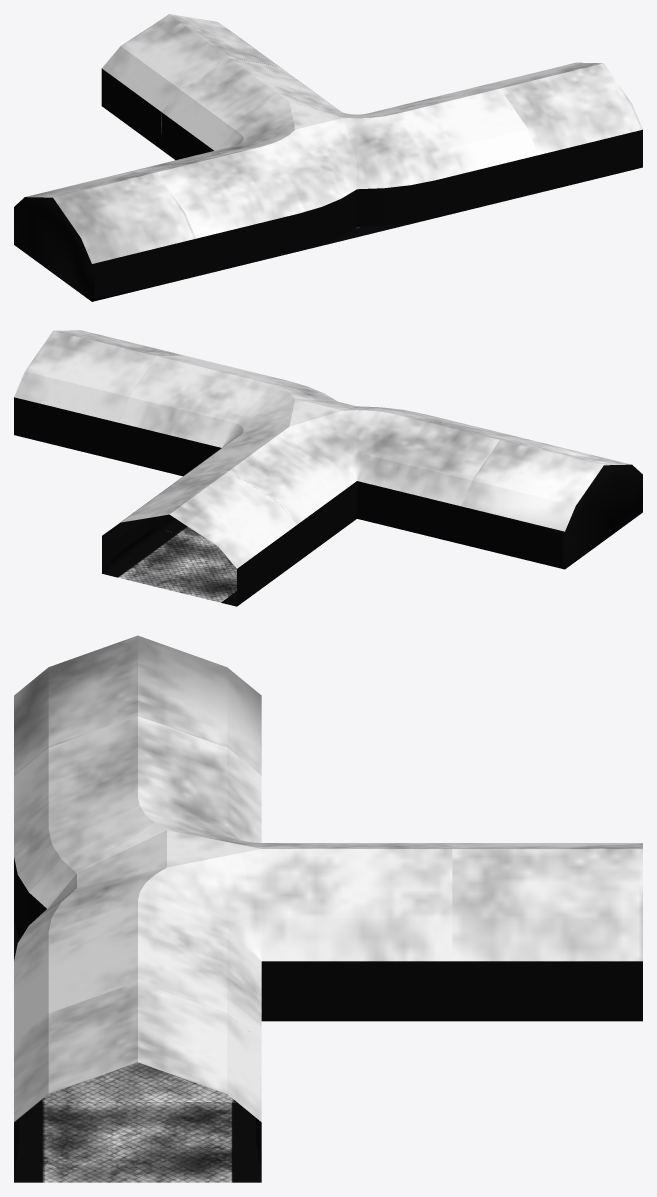
Rendered from halllway.obj.
3 views of the same model, one above another, from view 1: azimuth 30°, elevation 25°; view 2: azimuth 150°, elevation 25°; view 3: azimuth 270°, elevation 25° (orthographic). The views are drawn at different scales.
Visible parts, largest first — view 1: Pasillo_T_T.001_Cube.002, Pasillo_Puerta.004_Recto.001_Cube.005, Pasillo_Recto.002_Recto.001_Cube.002, Pasillo_Recto.008_Recto.001_Cube.001; view 2: Pasillo_T_T.001_Cube.002, Pasillo_Recto.008_Recto.001_Cube.001, Pasillo_Puerta.004_Recto.001_Cube.005, Pasillo_Recto.002_Recto.001_Cube.002; view 3: Pasillo_T_T.001_Cube.002, Pasillo_Recto.002_Recto.001_Cube.002, Pasillo_Recto.008_Recto.001_Cube.001, Pasillo_Puerta.004_Recto.001_Cube.005.
Boxes of the visible parts, left/top/right/bottom form: Pasillo_T_T.001_Cube.002: left=130, top=58, right=538, bottom=276; Pasillo_Puerta.004_Recto.001_Cube.005: left=14, top=171, right=195, bottom=301; Pasillo_Recto.002_Recto.001_Cube.002: left=473, top=62, right=642, bottom=192; Pasillo_Recto.008_Recto.001_Cube.001: left=101, top=14, right=288, bottom=149; Pasillo_T_T.001_Cube.002: left=118, top=355, right=526, bottom=562; Pasillo_Recto.008_Recto.001_Cube.001: left=102, top=470, right=296, bottom=606; Pasillo_Puerta.004_Recto.001_Cube.005: left=461, top=439, right=642, bottom=569; Pasillo_Recto.002_Recto.001_Cube.002: left=14, top=330, right=184, bottom=460; Pasillo_T_T.001_Cube.002: left=14, top=716, right=452, bottom=1101; Pasillo_Recto.002_Recto.001_Cube.002: left=14, top=982, right=261, bottom=1182; Pasillo_Recto.008_Recto.001_Cube.001: left=452, top=843, right=642, bottom=1021; Pasillo_Puerta.004_Recto.001_Cube.005: left=14, top=635, right=261, bottom=775.
Bounding box in the file's own units: 53 × 6.96 × 33.01.
